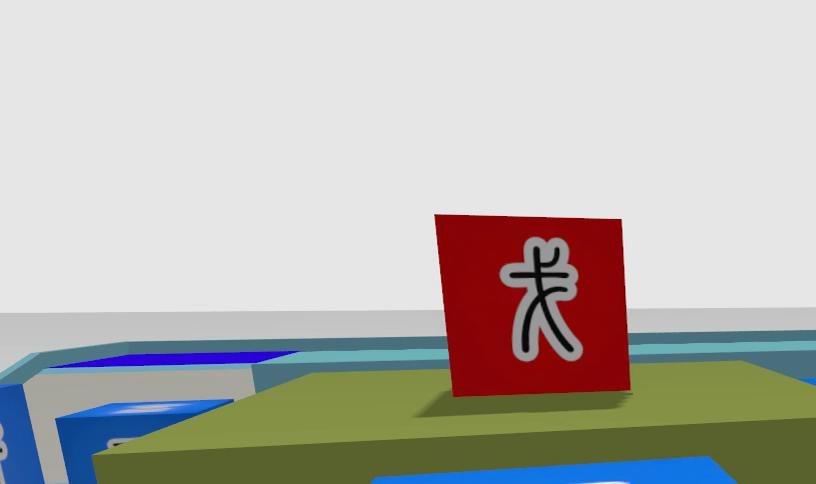KFS_FAKE: (436, 215, 628, 395), (501, 238, 582, 361)
KFS_REAL: (58, 401, 232, 484), (372, 458, 736, 484), (0, 384, 45, 484), (571, 482, 627, 484)
